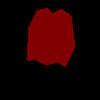abbigliamento_uomo: (26, 7, 75, 67)
